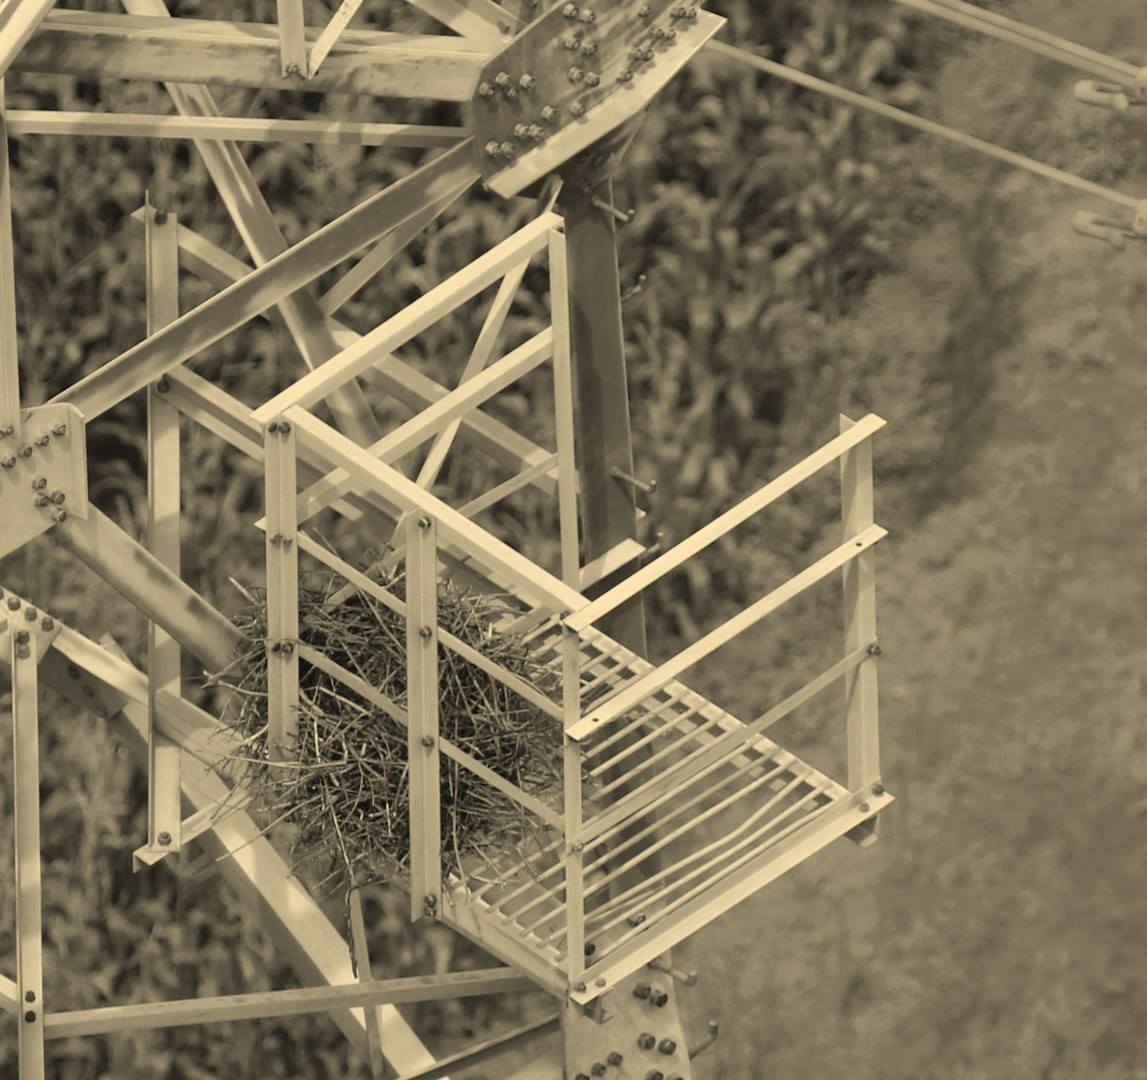niaowo: (218, 558, 566, 896)
